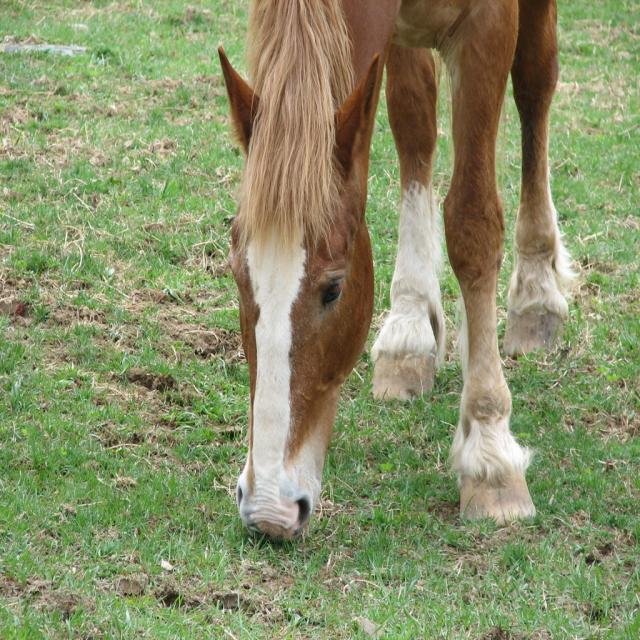Horse: (218, 0, 581, 545)
